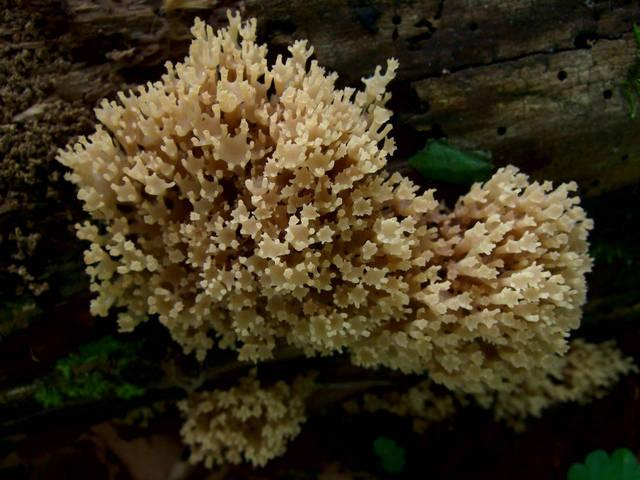Edible Mushroom: (54, 7, 598, 415)
